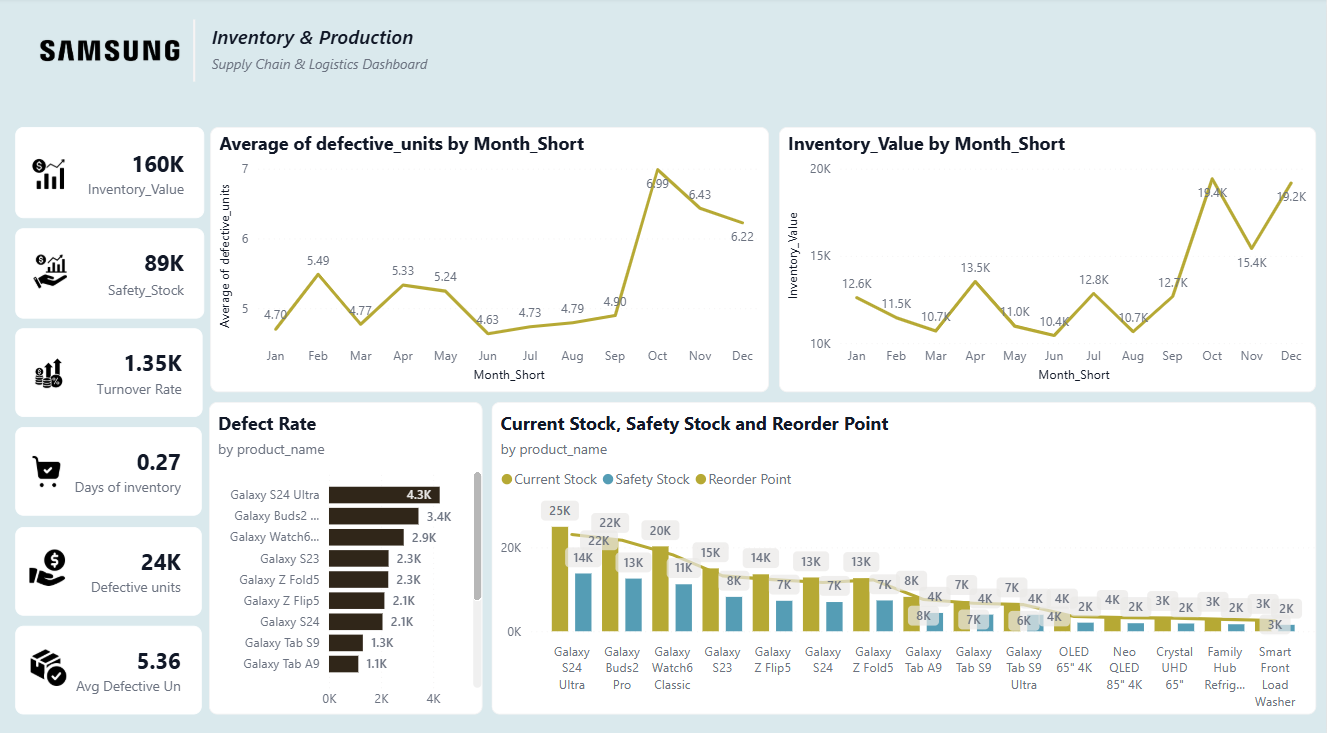

This screenshot's page, from the dashboard's own definition file:
{"tool":"powerbi","page":{"name":"Inventory","canvas":[1280,720],"ordinal":3},"visuals":[{"type":"textbox","title":"Inventory & Production","box":[200.3,25.7,225,48.9],"z":0},{"type":"shape","box":[173.4,22,29.3,59.9],"z":1000},{"type":"image","box":[29,24.1,149.6,54.3],"z":2000},{"type":"cardVisual","fields":{"Data":["MeasuresTable.Safety_Stock"]},"box":[15.5,223,182.2,86.9],"z":3000},{"type":"cardVisual","fields":{"Data":["Sum(fact_production.defective_units)"]},"box":[15.5,511.3,179.8,85.7],"z":4000},{"type":"cardVisual","fields":{"Data":["MeasuresTable.Turnover Rate"]},"box":[15.5,319.5,181,85.7],"z":5000},{"type":"cardVisual","fields":{"Data":["MeasuresTable.Days_of_inventory"]},"box":[15.5,414.8,179.8,85.7],"z":6000},{"type":"cardVisual","fields":{"Data":["Avg(fact_production.defective_units)"]},"box":[15.5,606.6,179.8,85.7],"z":7000},{"type":"cardVisual","fields":{"Data":["MeasuresTable.Inventory_Value"]},"box":[15.5,125.3,182.2,88.1],"z":8000},{"type":"image","box":[27.8,154.2,39.8,32.6],"z":9000},{"type":"image","box":[31.4,247.1,36.2,35],"z":10000},{"type":"image","box":[32.6,344.8,31.4,36.2],"z":11000},{"type":"image","box":[27.8,437.7,36.2,38.6],"z":12000},{"type":"image","box":[27.8,533,37.4,35],"z":13000},{"type":"image","box":[29,629.6,37.4,35],"z":14000},{"type":"clusteredBarChart","title":"Defect Rate","fields":{"Category":["dim_product.product_name"],"Y":["MeasuresTable.Defect_Rate"]},"box":[202.7,390.9,264.2,301.6],"z":15000},{"type":"lineClusteredColumnComboChart","fields":{"Category":["dim_product.product_name"],"Y":["MeasuresTable.Inventory_Value","MeasuresTable.Safety_Stock"],"Y2":["MeasuresTable.Reorder Point"]},"box":[475.3,390.9,796.3,301.6],"z":16000},{"type":"lineChart","fields":{"Category":["dim_date.Month_Short"],"Y":["Avg(fact_production.defective_units)"]},"box":[203.9,125.5,539.3,255.8],"z":17000},{"type":"lineChart","fields":{"Category":["dim_date.Month_Short"],"Y":["MeasuresTable.Inventory_Value"]},"box":[752.8,125.5,518.8,255.8],"z":18000}]}

Visuals, with their boxes in screenshot pixels (x1, y1, x2, y2), scaled from the page's 1280x720 canvas onto the 1327x733 screenshot:
"Inventory & Production" textbox: x1=208 y1=26 x2=441 y2=76
shape: x1=180 y1=22 x2=210 y2=83
image: x1=30 y1=25 x2=185 y2=80
cardVisual - MeasuresTable.Safety_Stock: x1=16 y1=227 x2=205 y2=315
cardVisual - Sum(fact_production.defective_units): x1=16 y1=521 x2=202 y2=608
cardVisual - MeasuresTable.Turnover Rate: x1=16 y1=325 x2=204 y2=413
cardVisual - MeasuresTable.Days_of_inventory: x1=16 y1=422 x2=202 y2=510
cardVisual - Avg(fact_production.defective_units): x1=16 y1=618 x2=202 y2=705
cardVisual - MeasuresTable.Inventory_Value: x1=16 y1=128 x2=205 y2=217
image: x1=29 y1=157 x2=70 y2=190
image: x1=33 y1=252 x2=70 y2=287
image: x1=34 y1=351 x2=66 y2=388
image: x1=29 y1=446 x2=66 y2=485
image: x1=29 y1=543 x2=68 y2=578
image: x1=30 y1=641 x2=69 y2=677
"Defect Rate" clusteredBarChart: x1=210 y1=398 x2=484 y2=705
lineClusteredColumnComboChart - dim_product.product_name x MeasuresTable.Inventory_Value: x1=493 y1=398 x2=1318 y2=705
lineChart - dim_date.Month_Short x Avg(fact_production.defective_units): x1=211 y1=128 x2=770 y2=388
lineChart - dim_date.Month_Short x MeasuresTable.Inventory_Value: x1=780 y1=128 x2=1318 y2=388
